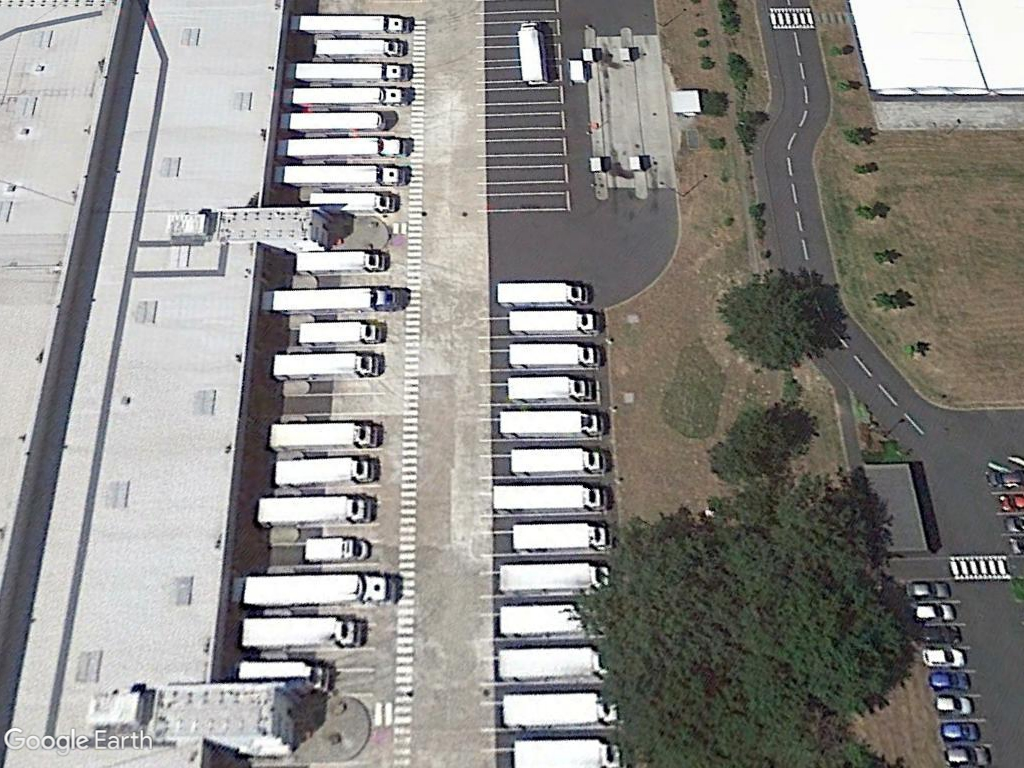car: (930, 689, 977, 717), (920, 644, 969, 669)
longvehicle: (241, 571, 408, 610), (260, 284, 411, 313), (273, 161, 413, 191), (489, 482, 614, 513), (287, 11, 422, 38), (275, 135, 414, 161), (283, 58, 419, 84), (279, 85, 419, 108)
truck: (499, 687, 624, 729), (239, 615, 367, 651), (497, 560, 615, 595), (255, 494, 375, 527), (496, 406, 609, 441), (266, 419, 384, 452), (272, 348, 385, 381), (492, 276, 596, 309), (270, 455, 377, 487), (507, 445, 610, 478), (509, 521, 615, 553), (504, 340, 609, 371), (502, 373, 600, 403), (513, 16, 553, 89), (499, 309, 608, 334), (297, 319, 389, 348), (294, 249, 392, 276), (301, 535, 373, 564), (308, 192, 401, 214), (305, 35, 408, 54)
